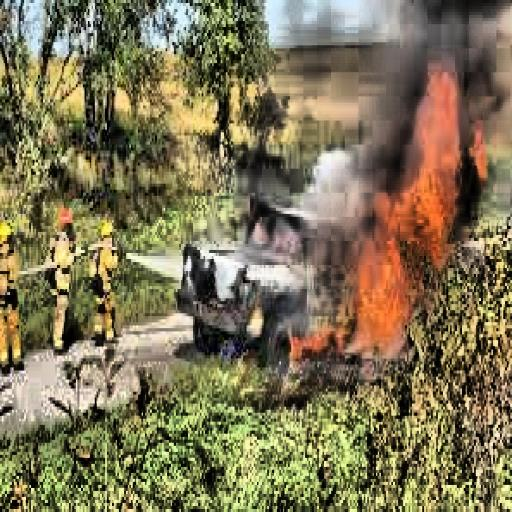fire: (384, 51, 498, 265), (254, 199, 380, 376)
